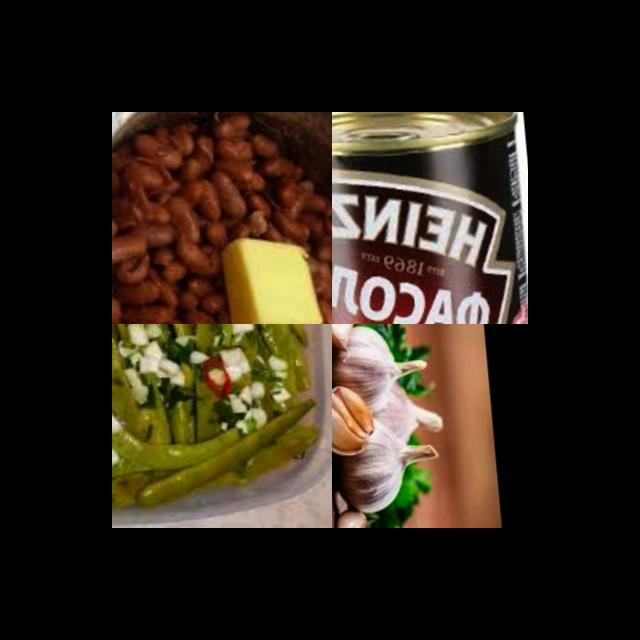garlic: (332, 413, 442, 520), (332, 324, 427, 415), (360, 379, 444, 448), (119, 324, 179, 406), (332, 383, 372, 459), (227, 378, 272, 440), (208, 348, 252, 388), (332, 324, 362, 364), (218, 324, 254, 344), (332, 509, 361, 528), (112, 397, 122, 446)
